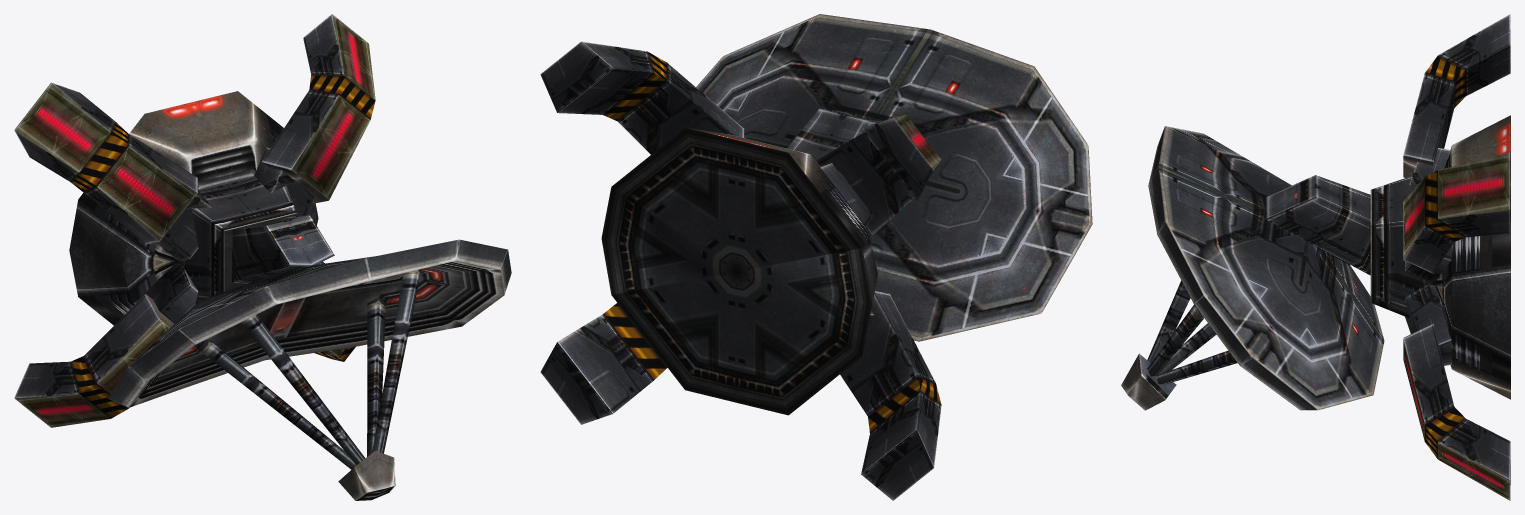
Rendered from comm-tower-02.obj.
The picture shows the model from 3 angles, left to right: view 1: azimuth 30°, elevation 25°; view 2: azimuth 150°, elevation 25°; view 3: azimuth 270°, elevation 25°; orthographic projection. The views are drawn at different scales.
Parts seen in each view (by area): view 1: body, head; view 2: body, head; view 3: head, body.
Part boxes in pixels (bbox=[...]): body: bbox=[14, 14, 375, 427]; head: bbox=[108, 215, 511, 500]; body: bbox=[540, 41, 941, 500]; head: bbox=[696, 14, 1092, 341]; head: bbox=[1121, 126, 1384, 410]; body: bbox=[1370, 14, 1510, 500].
Size of the model in its own units: 4.32 by 3.72 by 3.77.
1 material, 1 textured.
